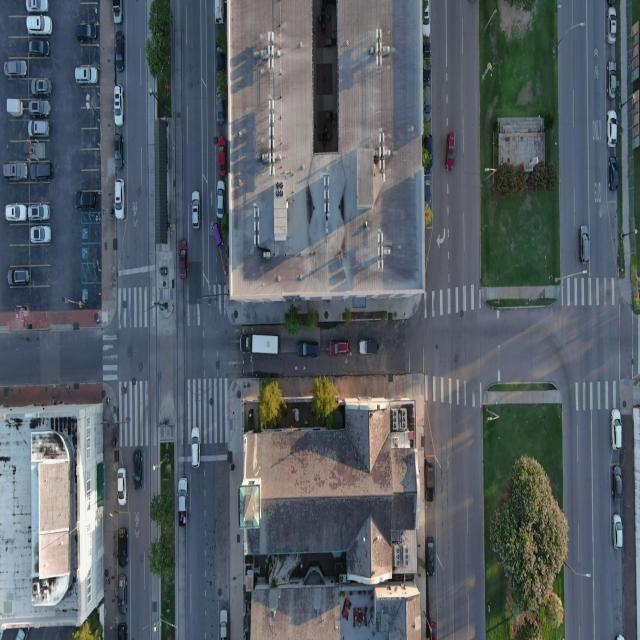Car: (177, 471, 189, 530), (176, 235, 190, 281), (189, 192, 204, 234), (133, 443, 145, 493), (329, 339, 352, 364), (7, 265, 30, 289), (113, 181, 125, 226), (113, 81, 123, 130), (190, 425, 201, 469), (116, 465, 127, 507), (114, 130, 125, 169), (295, 341, 319, 358), (358, 338, 378, 356)
Truck: (237, 332, 280, 357)
